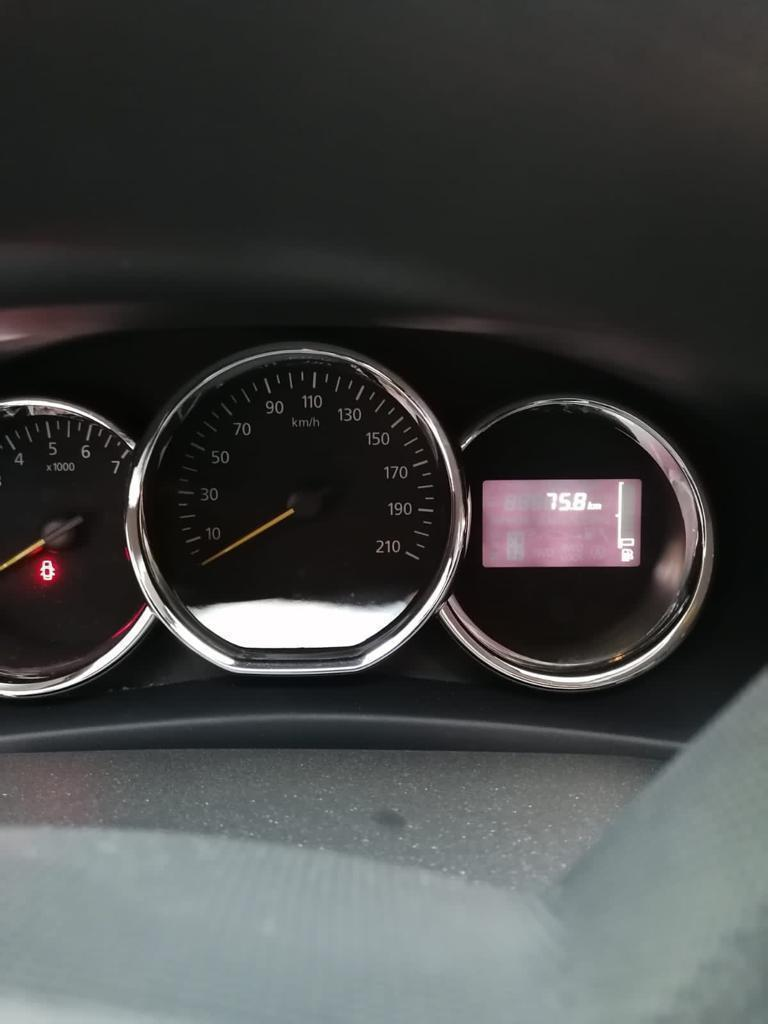,: (570, 506, 572, 511)
5: (558, 490, 570, 511)
7: (545, 490, 557, 511)
8: (573, 491, 585, 511)
X: (593, 503, 602, 510), (587, 500, 592, 510)
odometer: (481, 478, 643, 568)
